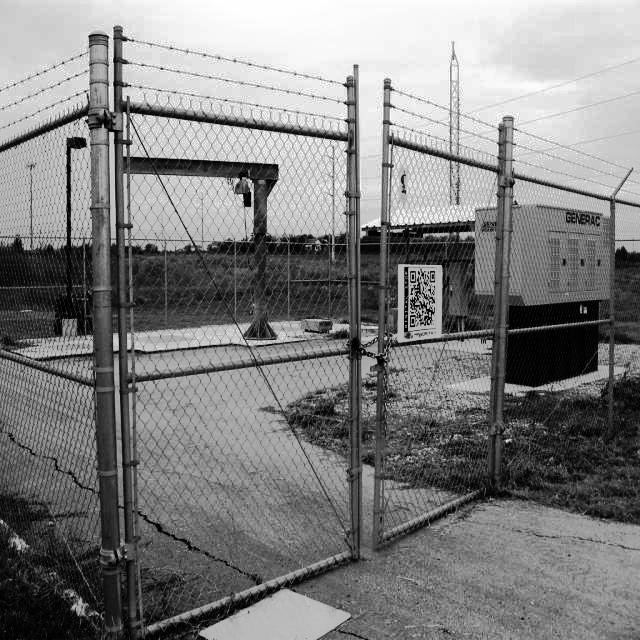qr_code: (410, 271, 434, 327)
